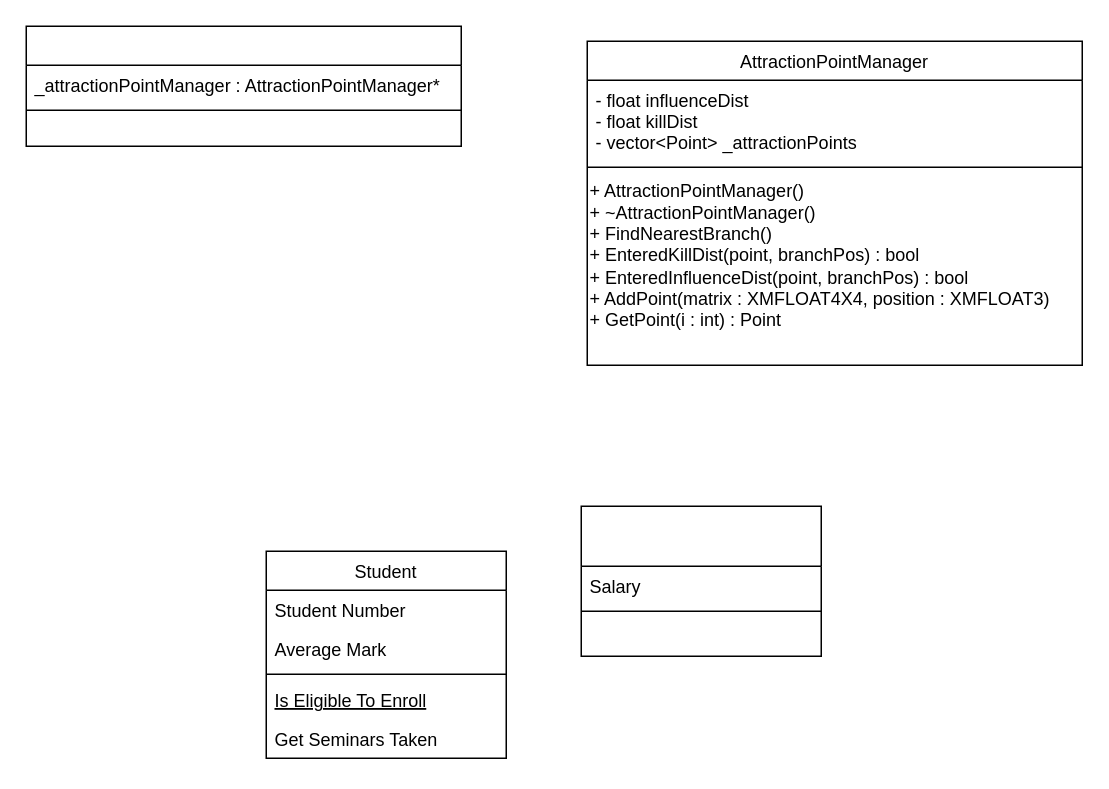
The diagram is 1109 pixels wide and 789 high, and some of its shapes have lost their labels. The shapes that lost their labels are listed below. From the top down, each one's box as (x1, y1, x2, y2) in pixels, then its label:
(25, 25, 461, 146): Application
(580, 505, 821, 656): «Struct» Points
